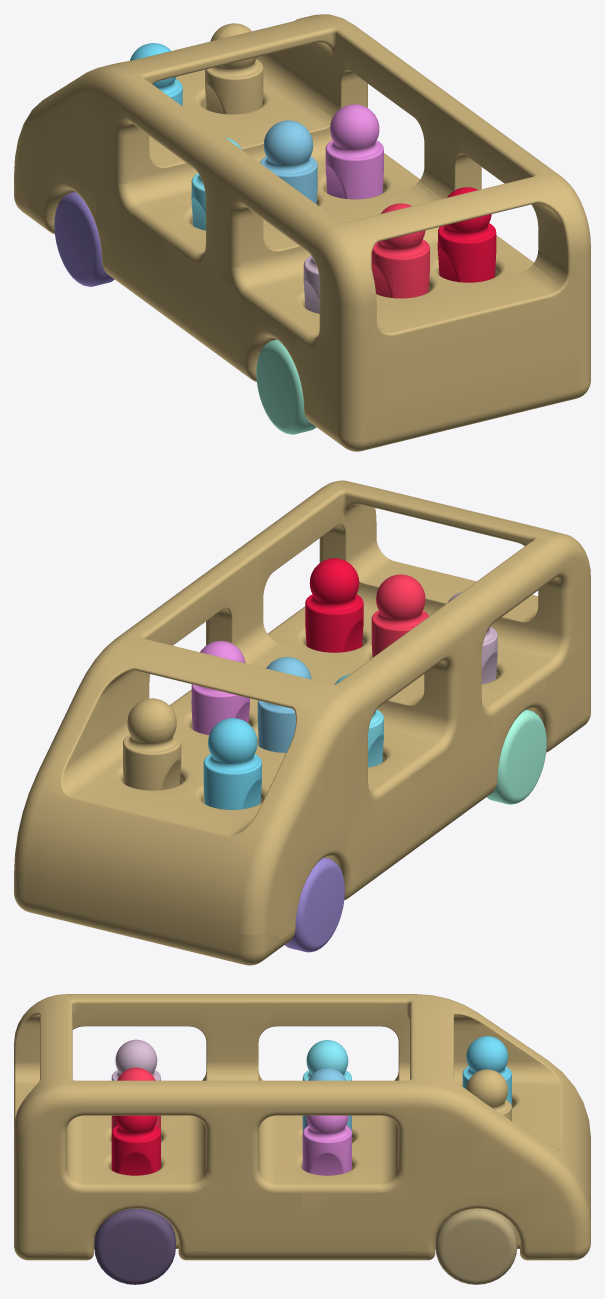
The picture shows the model from 3 angles, top to bottom: view 1: azimuth 30°, elevation 25°; view 2: azimuth 150°, elevation 25°; view 3: azimuth 270°, elevation 25°; orthographic projection. The views are drawn at different scales.
Parts seen in each view (by area): view 1: split_parent_1, Object_8, Object_7, Object_2, Object_6.002, Object_6.003, Object_7.002, Object_5.001, Object_7.001, Object_8.001; view 2: split_parent_1, Object_7, Object_5.001, Object_6.003, Object_6.002, Object_2, Object_8, Object_7.002, Object_7.001, Object_8.001; view 3: split_parent_1, Object_6, Object_6.001, Object_7, Object_8, Object_5.001, Object_7.001, Object_8.001, Object_2, Object_7.002.
Part boxes in pixels (box(x1,y1,x2,y2)): split_parent_1: box(14, 14, 590, 451); Object_8: box(325, 104, 383, 199); Object_7: box(437, 187, 496, 282); Object_2: box(371, 203, 429, 298); Object_6.002: box(54, 191, 114, 286); Object_6.003: box(256, 339, 316, 434); Object_7.002: box(260, 120, 317, 204); Object_5.001: box(130, 43, 182, 105); Object_7.001: box(303, 220, 342, 313); Object_8.001: box(191, 137, 241, 230); split_parent_1: box(14, 480, 590, 965); Object_7: box(305, 558, 363, 652); Object_5.001: box(203, 718, 261, 809); Object_6.003: box(486, 709, 546, 804); Object_6.002: box(285, 857, 344, 952); Object_2: box(371, 574, 428, 657); Object_8: box(191, 641, 249, 734); Object_7.002: box(257, 657, 311, 752); Object_7.001: box(448, 592, 497, 683); Object_8.001: box(334, 674, 383, 767); split_parent_1: box(14, 994, 590, 1260); Object_6: box(435, 1208, 517, 1284); Object_6.001: box(94, 1208, 175, 1284); Object_7: box(111, 1115, 160, 1175); Object_8: box(302, 1115, 351, 1175); Object_5.001: box(462, 1036, 511, 1105); Object_7.001: box(111, 1039, 160, 1080); Object_8.001: box(302, 1040, 351, 1080); Object_2: box(111, 1067, 160, 1131); Object_7.002: box(302, 1068, 351, 1132).
Bounding box in the file's own units: 0.4255 × 0.374 × 1.
